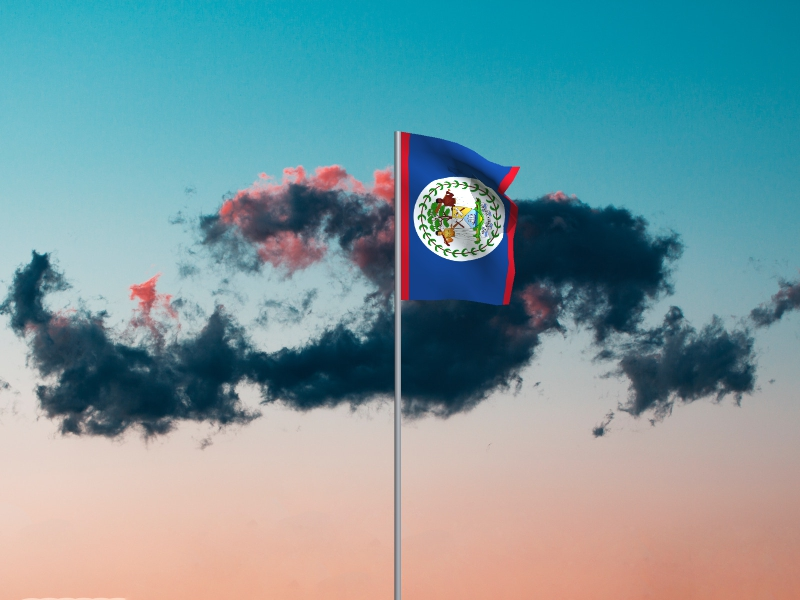bz: (401, 133, 522, 307)
